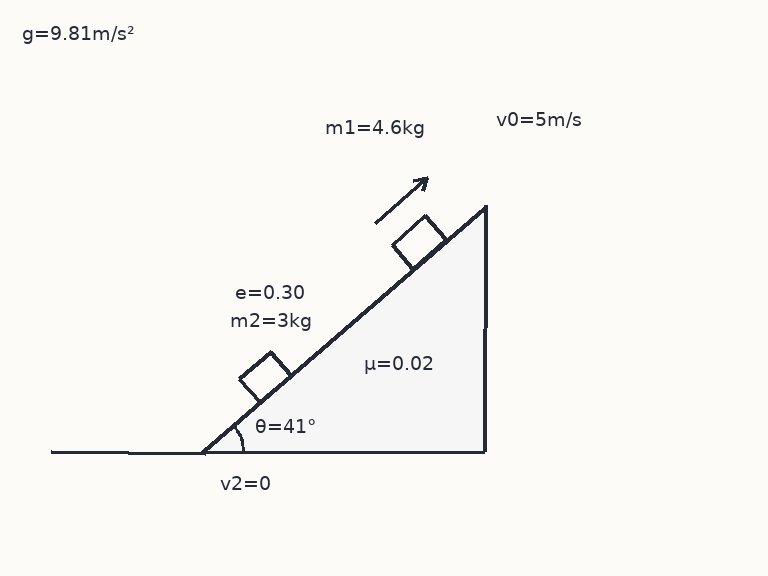block: (389, 214, 448, 271), (237, 350, 293, 404)
ramp: (201, 204, 487, 453)
